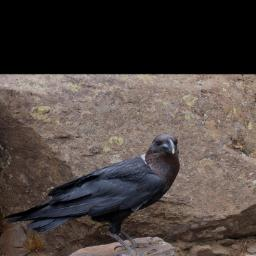Crow: (2, 133, 180, 256)
